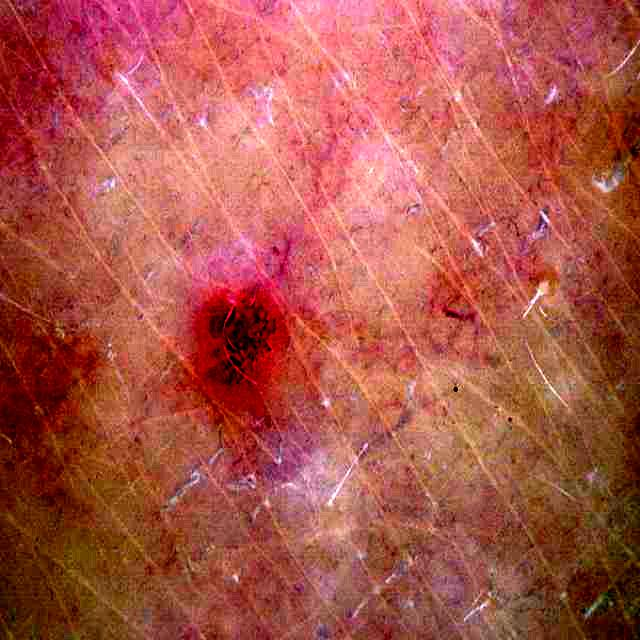VASC: (206, 309, 277, 407), (209, 294, 276, 382)
